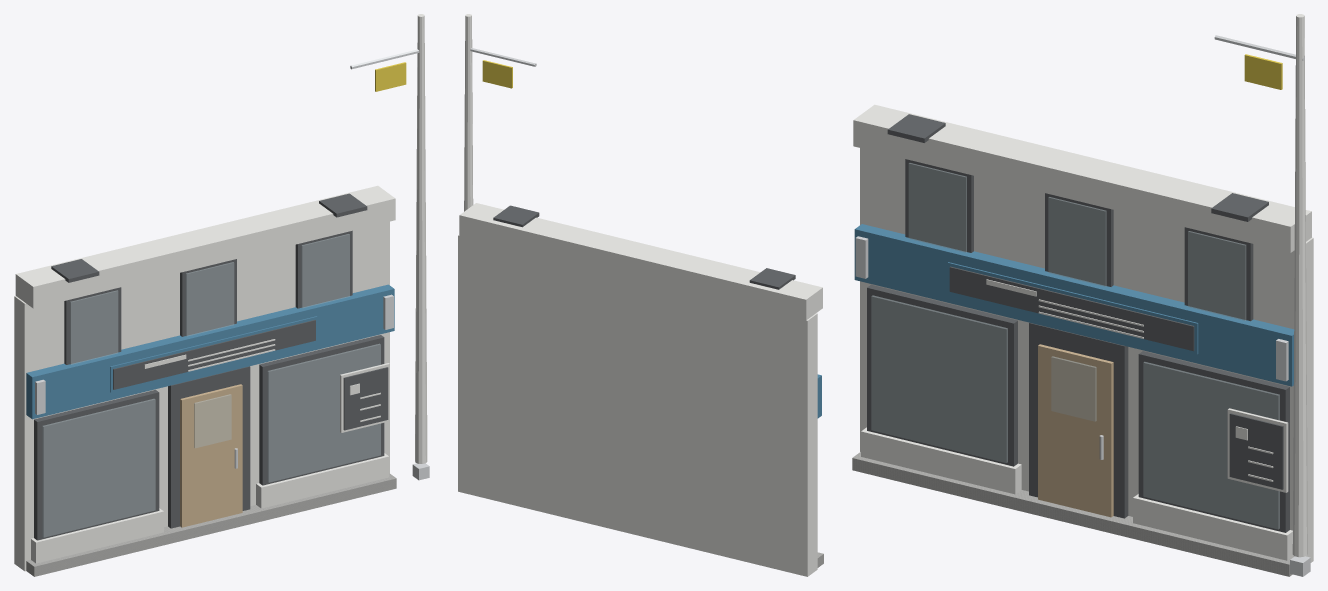
The model's file is fish-market-and-trawler-quay-fish-market-and-trawler-q-7303a4c4__37293.glb.
The picture shows the model from 3 angles, left to right: view 1: azimuth 30°, elevation 25°; view 2: azimuth 150°, elevation 25°; view 3: azimuth 330°, elevation 25°; orthographic projection. The views are drawn at different scales.
Parts seen in each view (by area): view 1: fish-market-and-trawler-quay-harbour-office-front; view 2: fish-market-and-trawler-quay-harbour-office-front; view 3: fish-market-and-trawler-quay-harbour-office-front.
Part boxes in pixels (x1,y1,x2,y2): fish-market-and-trawler-quay-harbour-office-front: (14, 14, 429, 576); fish-market-and-trawler-quay-harbour-office-front: (458, 14, 823, 576); fish-market-and-trawler-quay-harbour-office-front: (852, 14, 1313, 576).
Size of the model in its own units: 6.34 by 7.45 by 0.8402.
Materials: 8 (1 with a texture image).
